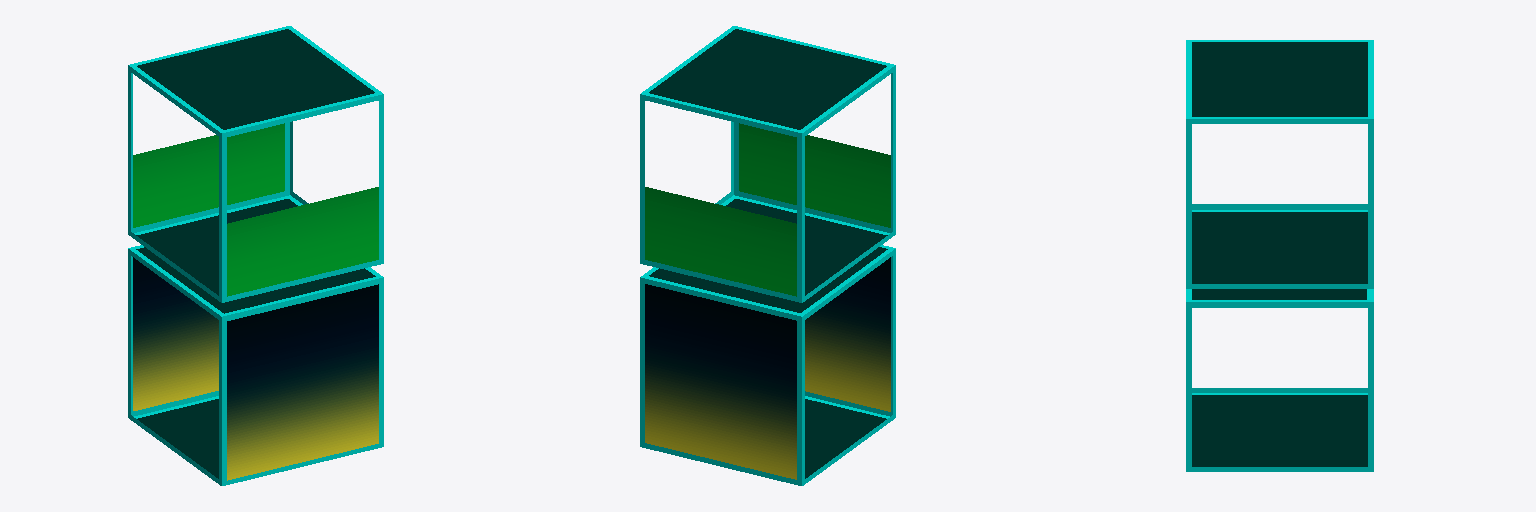
3 views of the same model, side by side, from view 1: azimuth 30°, elevation 25°; view 2: azimuth 150°, elevation 25°; view 3: azimuth 270°, elevation 25° (orthographic).
Visible parts, largest first — view 1: Mesh1 Group2 Group1 Model, Mesh2 Group3 G_5_1 Group1 Model; view 2: Mesh1 Group2 Group1 Model, Mesh2 Group3 G_5_1 Group1 Model; view 3: Mesh1 Group2 Group1 Model, Mesh2 Group3 G_5_1 Group1 Model.
Part boxes in pixels (left/top/right/bottom): Mesh1 Group2 Group1 Model: left=128, top=26, right=383, bottom=302; Mesh2 Group3 G_5_1 Group1 Model: left=128, top=245, right=383, bottom=485; Mesh1 Group2 Group1 Model: left=640, top=26, right=895, bottom=302; Mesh2 Group3 G_5_1 Group1 Model: left=640, top=245, right=895, bottom=485; Mesh1 Group2 Group1 Model: left=1186, top=40, right=1373, bottom=288; Mesh2 Group3 G_5_1 Group1 Model: left=1186, top=289, right=1373, bottom=471.
Size of the model in its own units: 100 by 208 by 100.
Materials: 6 (6 with a texture image).